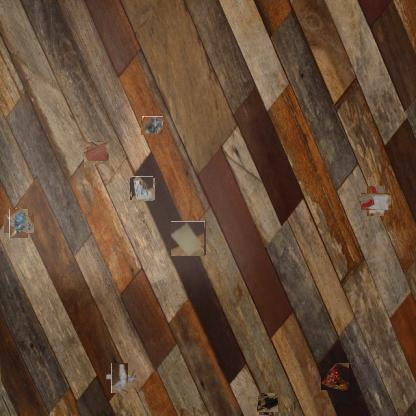dirty: (171, 221, 206, 256), (321, 362, 349, 390), (7, 211, 31, 236), (364, 190, 388, 214), (131, 177, 154, 201), (108, 367, 132, 390), (141, 116, 163, 135)
liquid: (84, 141, 108, 165), (258, 395, 276, 414)
